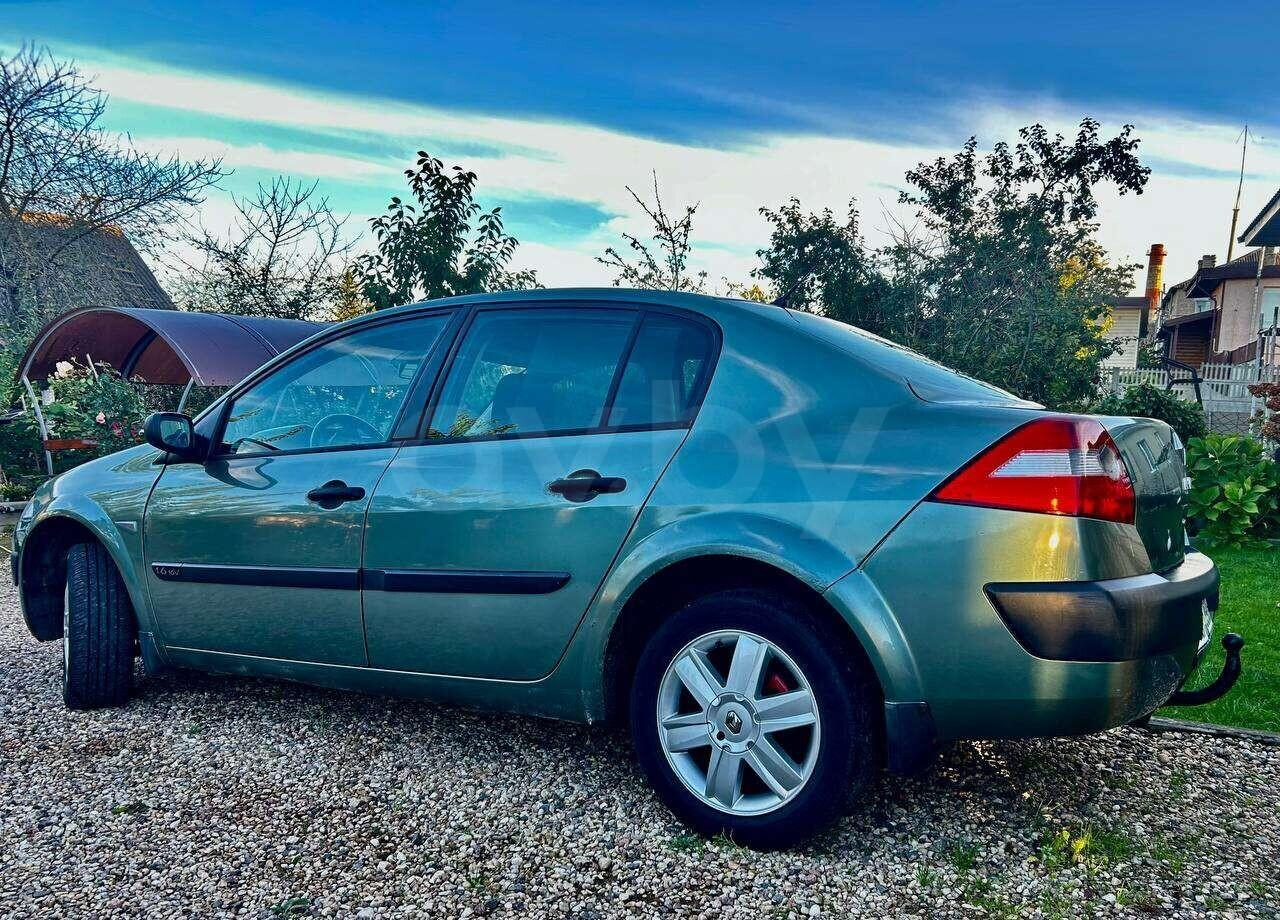Megane_2002-2006: (8, 282, 1229, 840)
